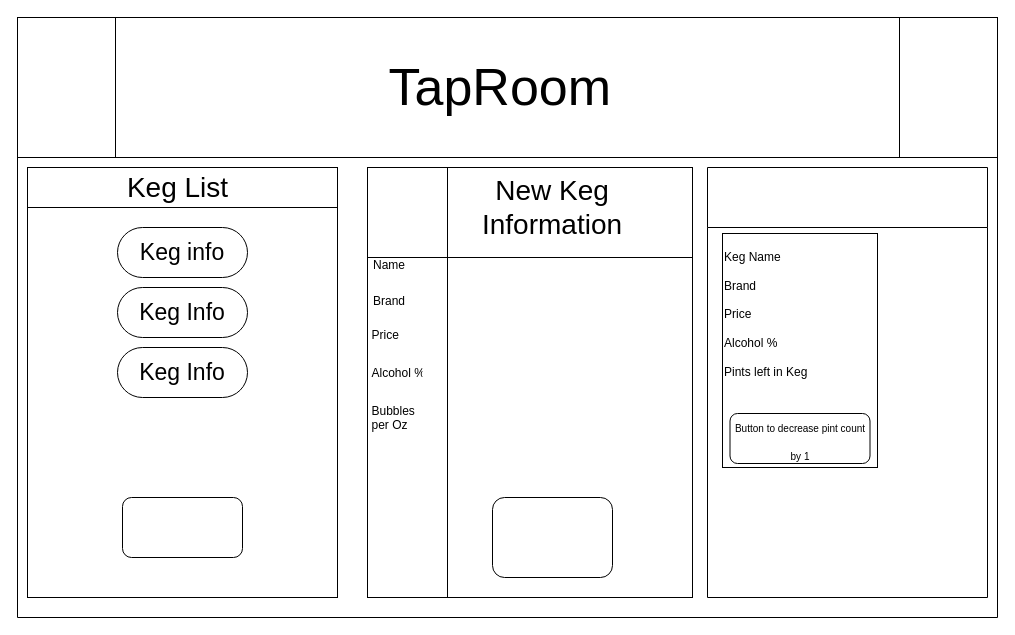
Image size: 1015x635. Some labels were removed from this diagram. The centre of each missing label's shape, as x and y in pixels:
Add Keg Button: (x=182, y=527)
Current Keg Information: (x=847, y=382)
Return to Keg List Button: (x=552, y=537)
